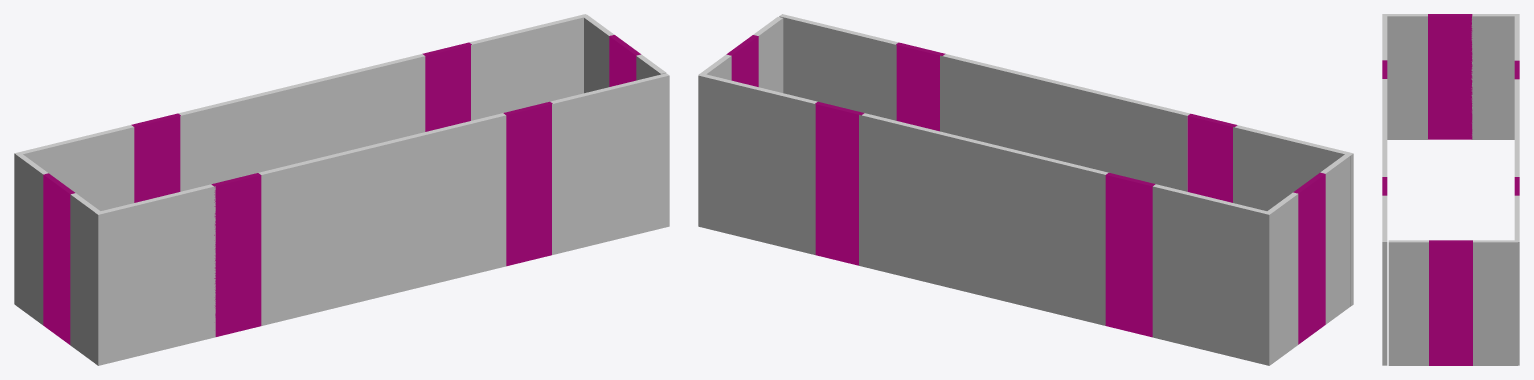
File: room_hallway.glb
The picture shows the model from 3 angles, left to right: view 1: azimuth 30°, elevation 25°; view 2: azimuth 150°, elevation 25°; view 3: azimuth 270°, elevation 25°; orthographic projection. The views are drawn at different scales.
Parts seen in each view (by area): view 1: foyer_back_wall.005, foyer_back_wall.003, foyer_back_wall.004, foyer_back_wall.001, foyer_back_wall.006, foyer_back_wall.002, wall_blocked_N.002, foyer_west_wall.005, wall_blocked_N.003, foyer_west_wall.004, north.004, north.001 (+8 smaller); view 2: foyer_back_wall.003, foyer_back_wall.005, foyer_back_wall.002, foyer_back_wall.006, foyer_back_wall.001, foyer_back_wall.004, wall_blocked_N.001, foyer_west_wall.005, wall_blocked_N.004, foyer_west_wall.004, north.001, north.002 (+8 smaller); view 3: foyer_east_wall.003, foyer_west_wall.005, foyer_west_wall.004, foyer_east_wall.004, wall_blocked_W.001, wall_blocked_E.001, west.001, east.001, foyer_back_wall.001, foyer_back_wall.005, foyer_back_wall.003, foyer_back_wall.006 (+2 smaller).
Boxes of the visible parts, <box> form: foyer_back_wall.005: <box>258,113,506,325</box>; foyer_back_wall.003: <box>178,54,425,191</box>; foyer_back_wall.004: <box>95,184,215,365</box>; foyer_back_wall.001: <box>550,73,669,254</box>; foyer_back_wall.006: <box>469,14,586,120</box>; foyer_back_wall.002: <box>14,125,134,305</box>; wall_blocked_N.002: <box>214,232,261,336</box>; foyer_west_wall.005: <box>16,153,48,325</box>; wall_blocked_N.003: <box>506,161,551,266</box>; foyer_west_wall.004: <box>70,193,102,362</box>; north.004: <box>422,42,471,115</box>; north.001: <box>131,113,180,184</box>; foyer_back_wall.003: <box>859,113,1108,325</box>; foyer_back_wall.005: <box>940,54,1189,191</box>; foyer_back_wall.002: <box>1152,184,1271,365</box>; foyer_back_wall.006: <box>698,74,817,254</box>; foyer_back_wall.001: <box>779,14,898,120</box>; foyer_back_wall.004: <box>1233,125,1353,306</box>; wall_blocked_N.001: <box>1105,232,1152,337</box>; foyer_west_wall.005: <box>1266,192,1298,364</box>; wall_blocked_N.004: <box>815,161,858,265</box>; foyer_west_wall.004: <box>1320,153,1352,324</box>; north.001: <box>1105,173,1155,245</box>; north.002: <box>1187,113,1237,186</box>; foyer_east_wall.003: <box>1473,240,1517,365</box>; foyer_west_wall.005: <box>1471,14,1516,139</box>; foyer_west_wall.004: <box>1384,14,1427,139</box>; foyer_east_wall.004: <box>1388,240,1428,365</box>; wall_blocked_W.001: <box>1428,63,1472,139</box>; wall_blocked_E.001: <box>1429,289,1472,365</box>; west.001: <box>1428,14,1472,65</box>; east.001: <box>1429,240,1472,291</box>; foyer_back_wall.001: <box>1382,195,1387,365</box>; foyer_back_wall.005: <box>1382,79,1387,176</box>; foyer_back_wall.003: <box>1514,79,1519,176</box>; foyer_back_wall.006: <box>1514,195,1519,365</box>.
Size of the model in its own units: 15.85 by 4 by 4.03.
